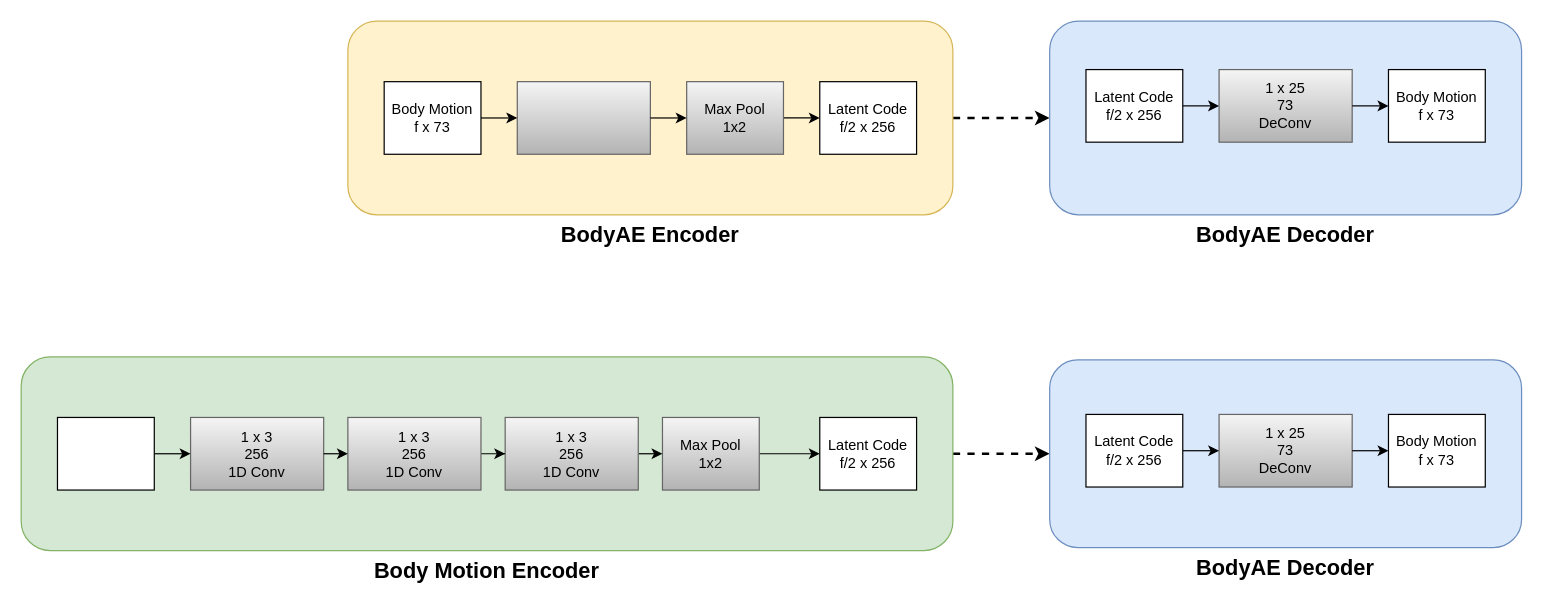
The diagram is 1543 pixels wide and 606 high, and some of its shapes have lost their labels. Each missing label, with the centre of its shape:
"1 x 25 256 1D conv" goes at (x=583, y=117).
"Body Motion f x 146" goes at (x=105, y=453).
